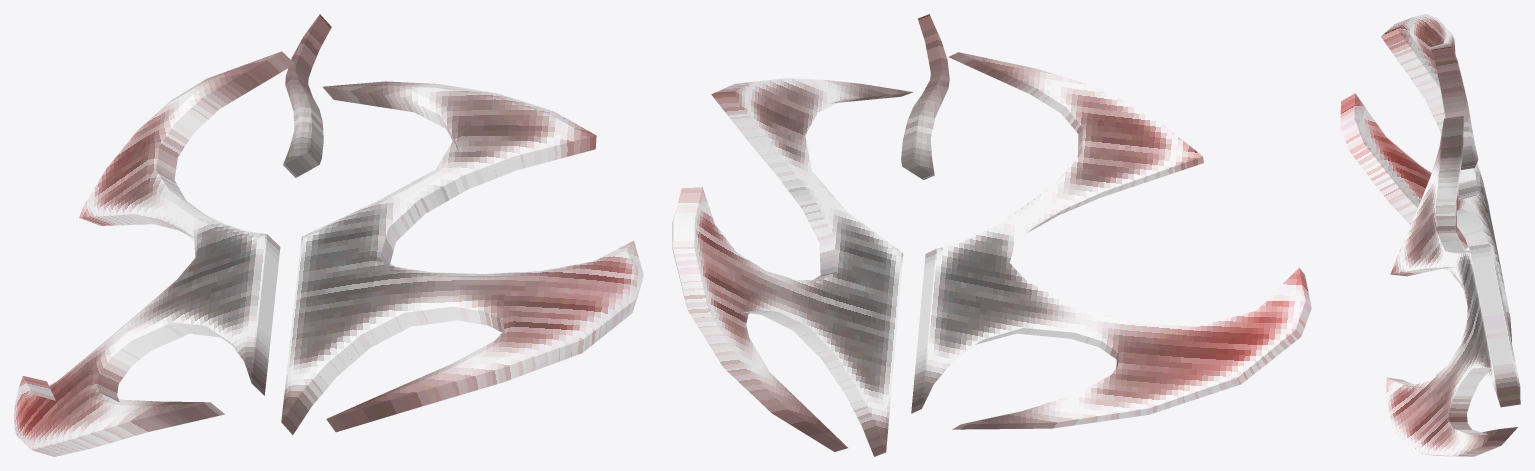
Rendered from ps2_save-icons_hitman2.glb.
3 renders of one model, left to right at view 1: azimuth 30°, elevation 25°; view 2: azimuth 150°, elevation 25°; view 3: azimuth 270°, elevation 25°, orthographic. The views are drawn at different scales.
Parts seen in each view (by area): view 1: hm2.icn; view 2: hm2.icn; view 3: hm2.icn.
Part boxes in pixels (<box>): hm2.icn: <box>14,14,643,456</box>; hm2.icn: <box>672,14,1311,456</box>; hm2.icn: <box>1340,14,1520,456</box>.
Bounding box in the file's own units: 4.14 × 2.72 × 1.22.
Materials: 1 (1 with a texture image).
